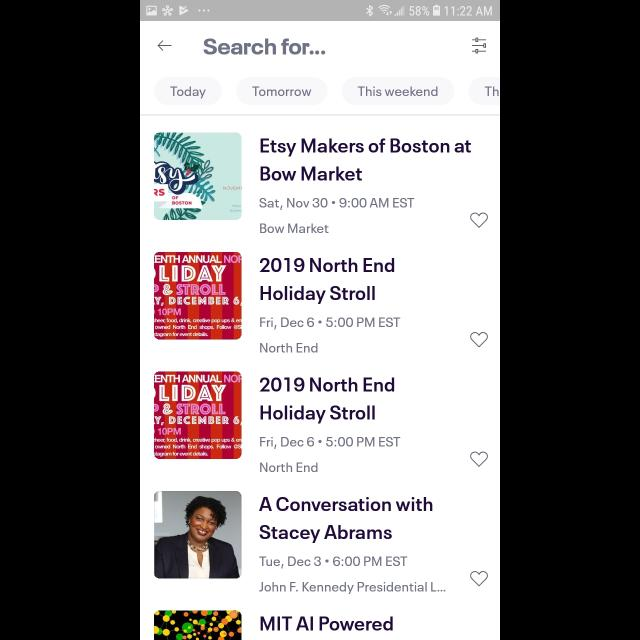icon: (470, 212, 488, 228), (470, 332, 488, 348), (470, 570, 488, 586), (470, 452, 488, 468), (472, 38, 486, 54), (158, 40, 172, 51)
image: (154, 132, 242, 220), (154, 252, 242, 340), (154, 372, 242, 460), (154, 490, 242, 578), (154, 610, 242, 640)
text: (260, 138, 472, 182), (259, 497, 433, 543), (260, 376, 394, 424), (260, 258, 394, 304), (258, 582, 446, 594), (203, 38, 325, 56), (260, 616, 392, 632), (260, 198, 414, 210), (259, 556, 407, 568), (260, 318, 400, 330), (260, 437, 400, 449), (260, 223, 328, 233), (260, 343, 318, 353), (260, 462, 318, 472)
textbutton: (342, 78, 454, 106), (236, 77, 328, 105), (155, 77, 223, 105), (468, 78, 499, 106)
uppertaskbar: (140, 1, 500, 22)
